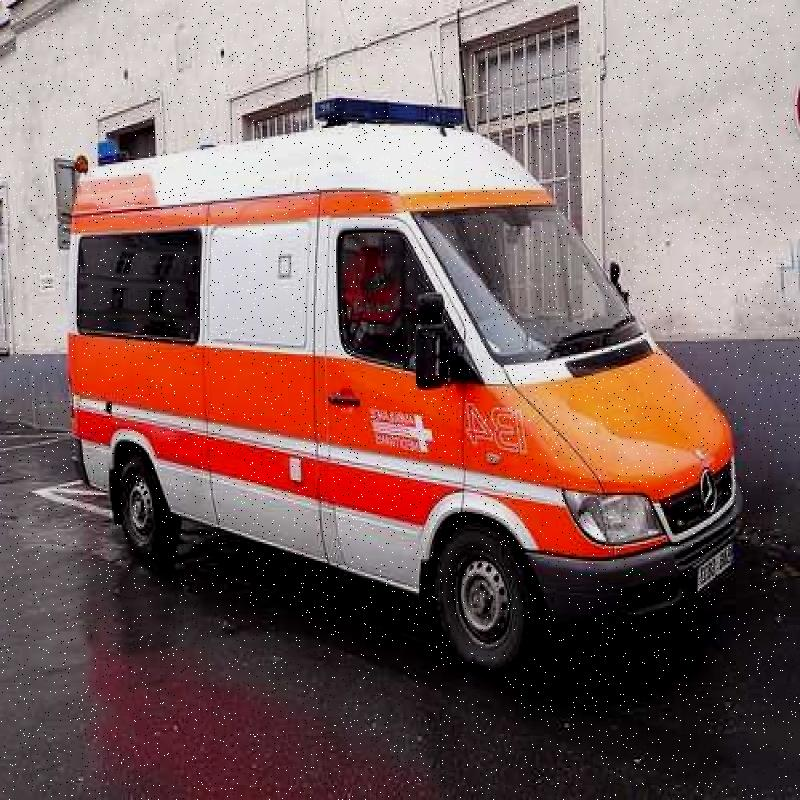AmbulanceSiren: (299, 89, 468, 138)
